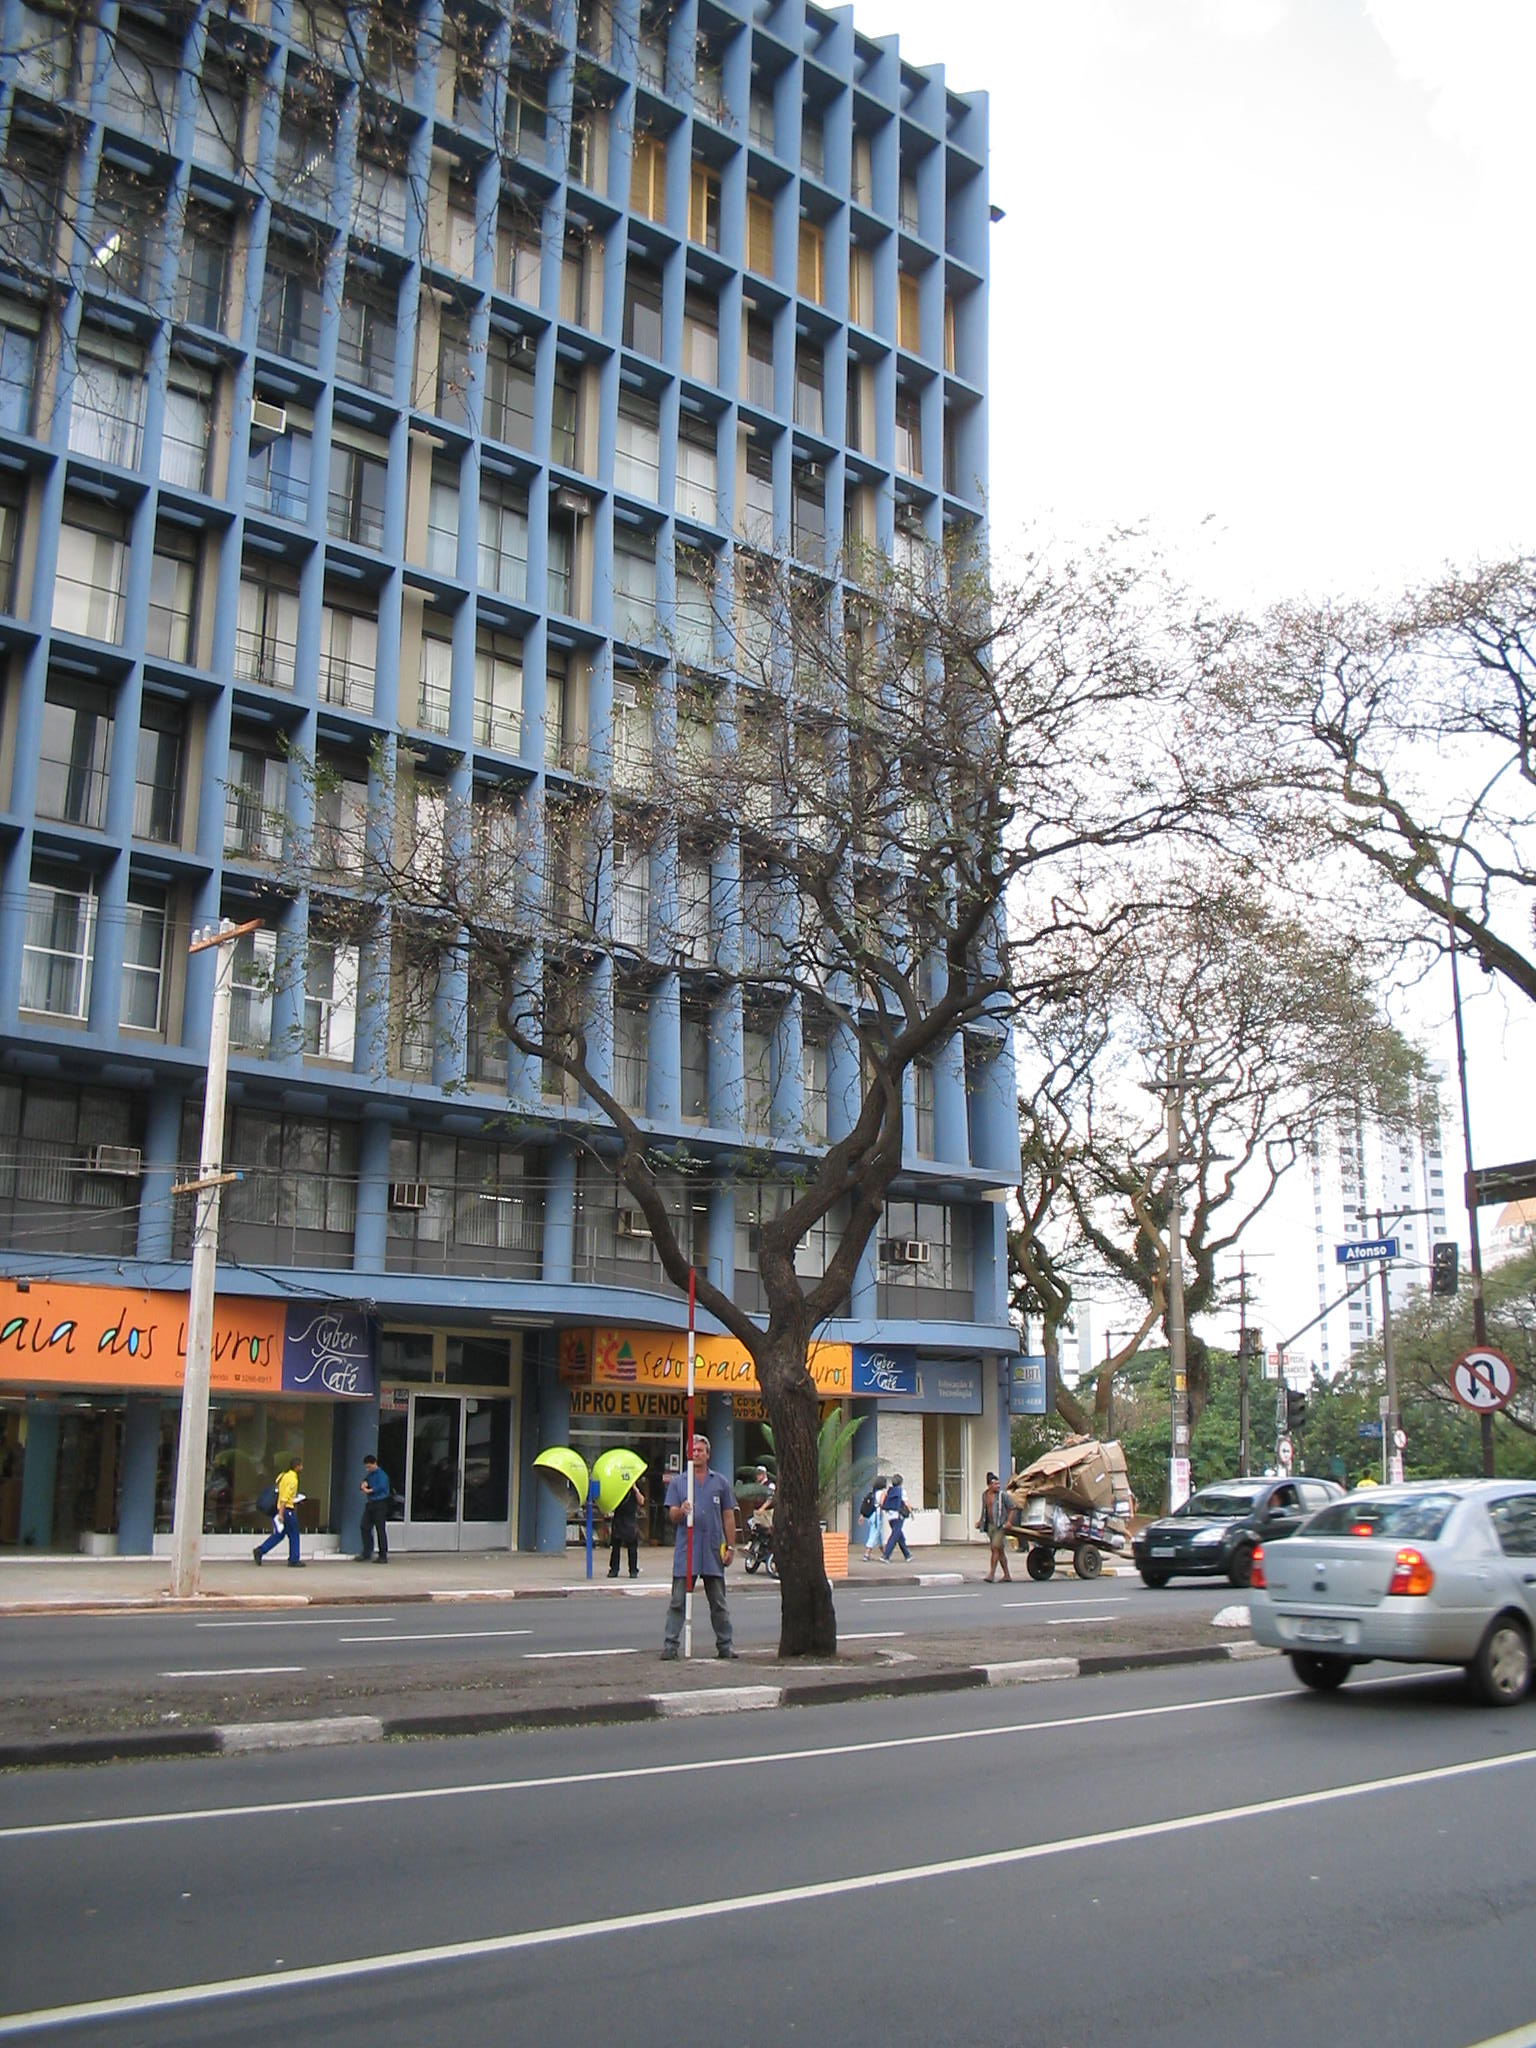stem: (715, 1363, 887, 1661)
stick: (665, 1266, 708, 1655)
tree: (231, 513, 1321, 1658)
